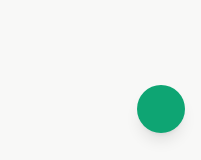
Test case: order feedback rules › does not expose a request-check action without an order token
What coordinates should you click on to do the following:
click the button named "Abrir ações de atendimento"
I would click on:
 (161, 109)
Its box is [137,85,185,133].
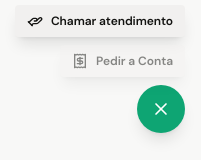
Now the button "Pedir a Conta" is disabled, box [60,45,185,77]
